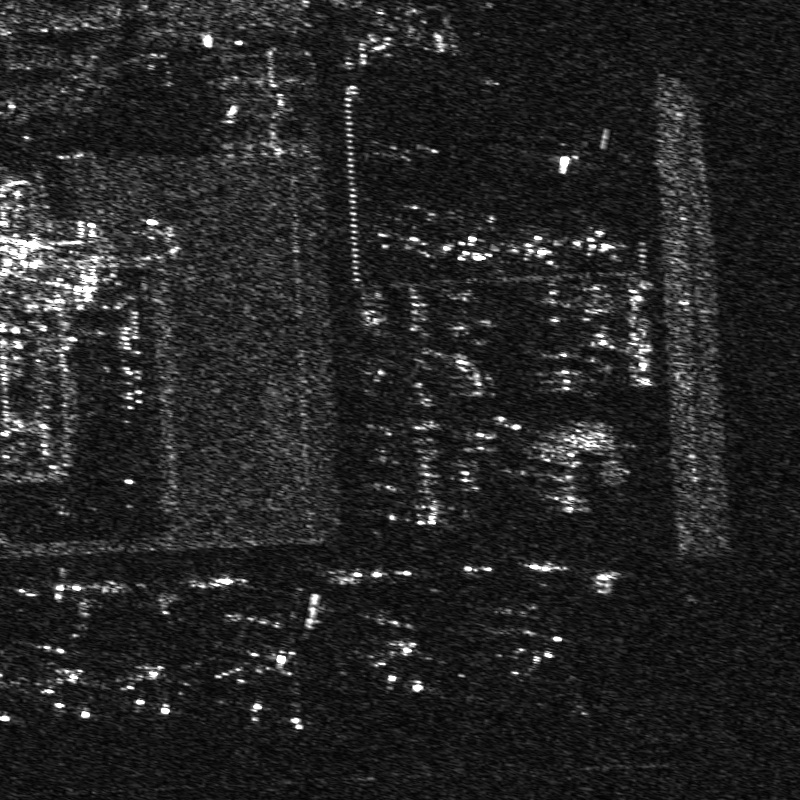ARJ21: (442, 231, 500, 264)
Boeing737: (370, 616, 446, 695), (496, 609, 571, 673), (30, 663, 106, 724), (120, 659, 192, 716)
other: (213, 636, 347, 731), (507, 226, 563, 268), (571, 225, 628, 265)
